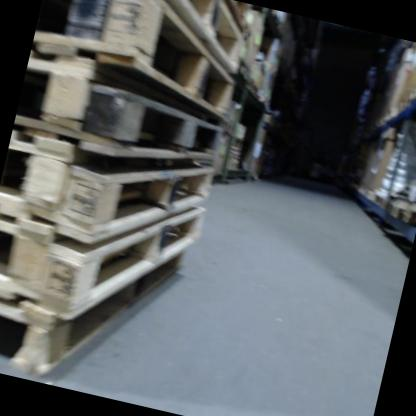pallet: (0, 204, 186, 395), (0, 159, 205, 328), (0, 124, 212, 264), (27, 0, 254, 122), (14, 79, 226, 174), (145, 0, 251, 71)
